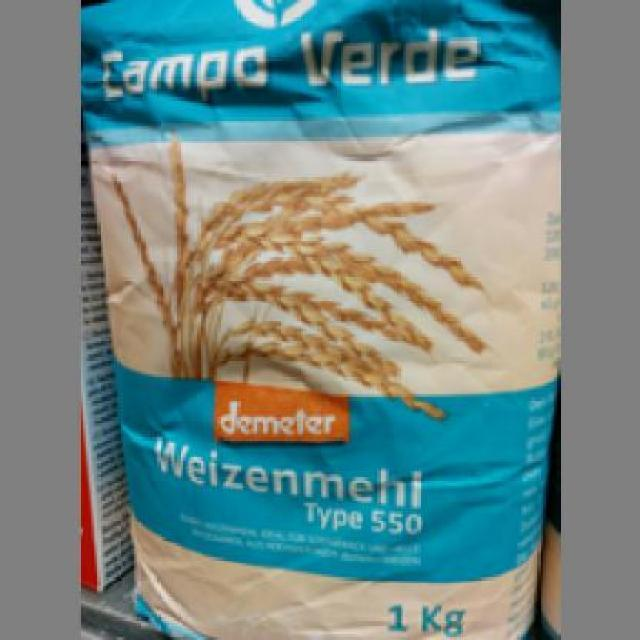Flour: (77, 2, 554, 635)
